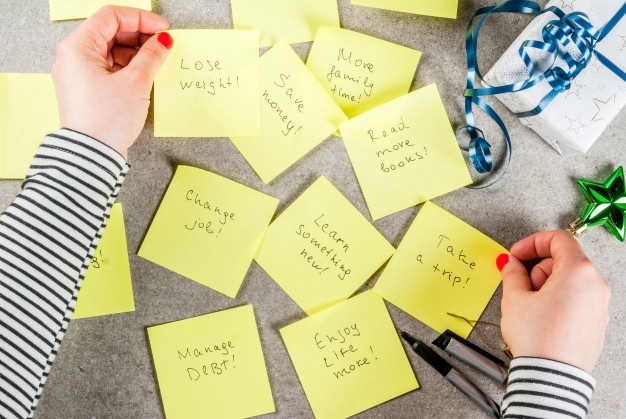Note: (254, 177, 397, 316), (139, 161, 276, 299), (275, 290, 423, 417), (378, 200, 506, 342), (341, 86, 473, 216), (230, 43, 348, 178), (146, 305, 276, 419), (307, 23, 423, 136), (151, 30, 261, 137), (57, 203, 134, 319)
